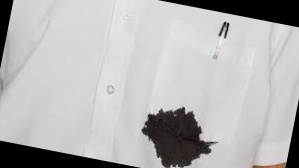ink: (139, 104, 219, 168)
